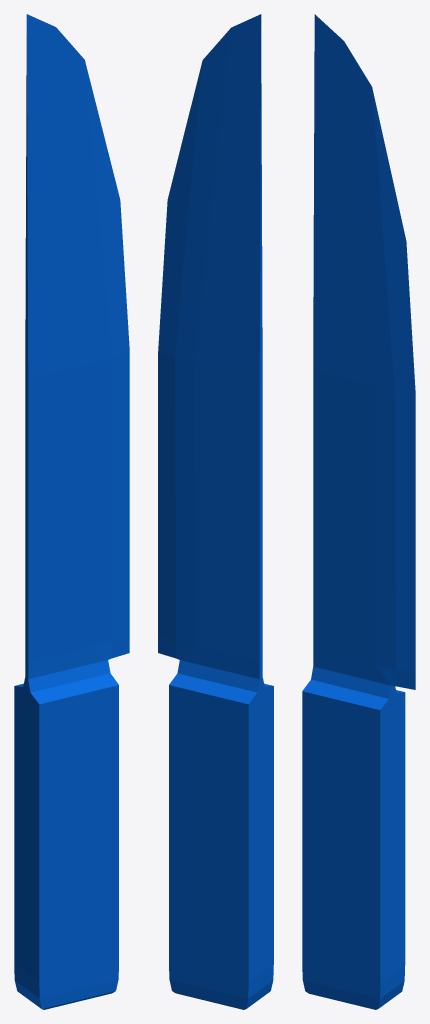
File: knife-yatai2.fbx
3 views of the same model, side by side, from view 1: azimuth 30°, elevation 25°; view 2: azimuth 150°, elevation 25°; view 3: azimuth 330°, elevation 25° (orthographic).
Visible parts, largest first — view 1: Cube.001; view 2: Cube.001; view 3: Cube.001.
Part boxes in pixels (x1,y1,x2,y2): Cube.001: (14, 14, 129, 1009); Cube.001: (158, 14, 273, 1009); Cube.001: (302, 14, 415, 1009).
Bounding box in the file's own units: 18.05 × 165 × 7.64.
